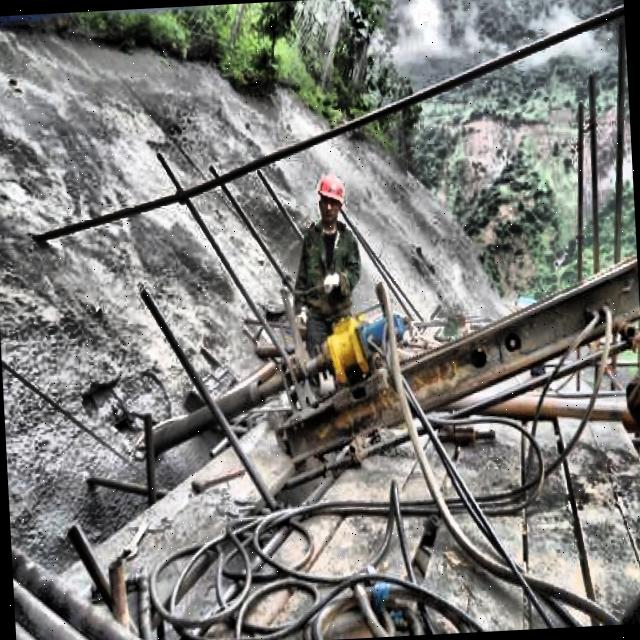helmet: (314, 172, 344, 226)
